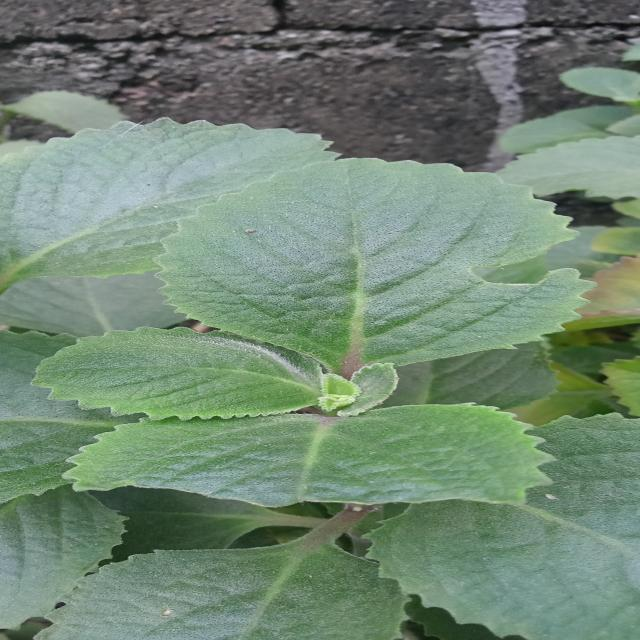Oregano: (59, 155, 623, 520)
